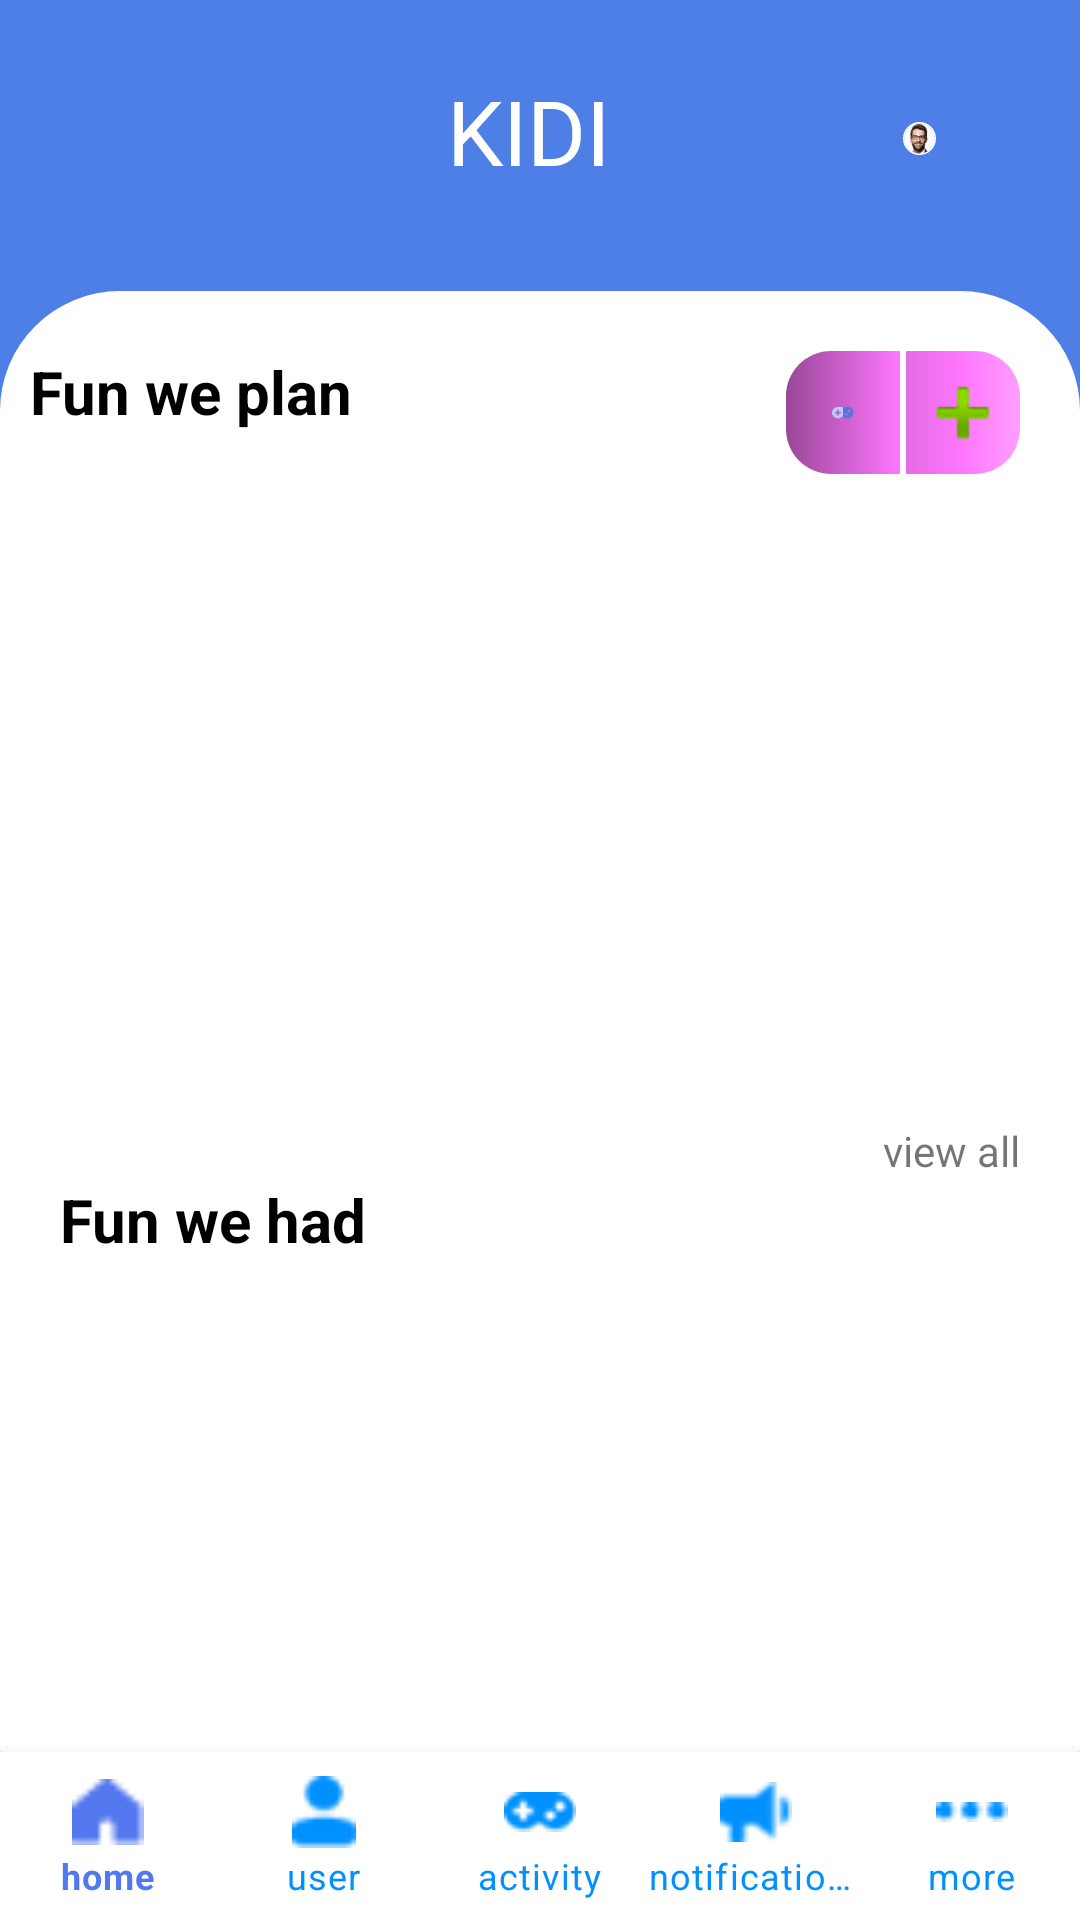

Locate icon controls on the screen. Image size 1080×1920, boxes as box(x1, y1, x2, y2).
add: box(906, 351, 1020, 474)
bitmap: box(903, 122, 936, 155)
